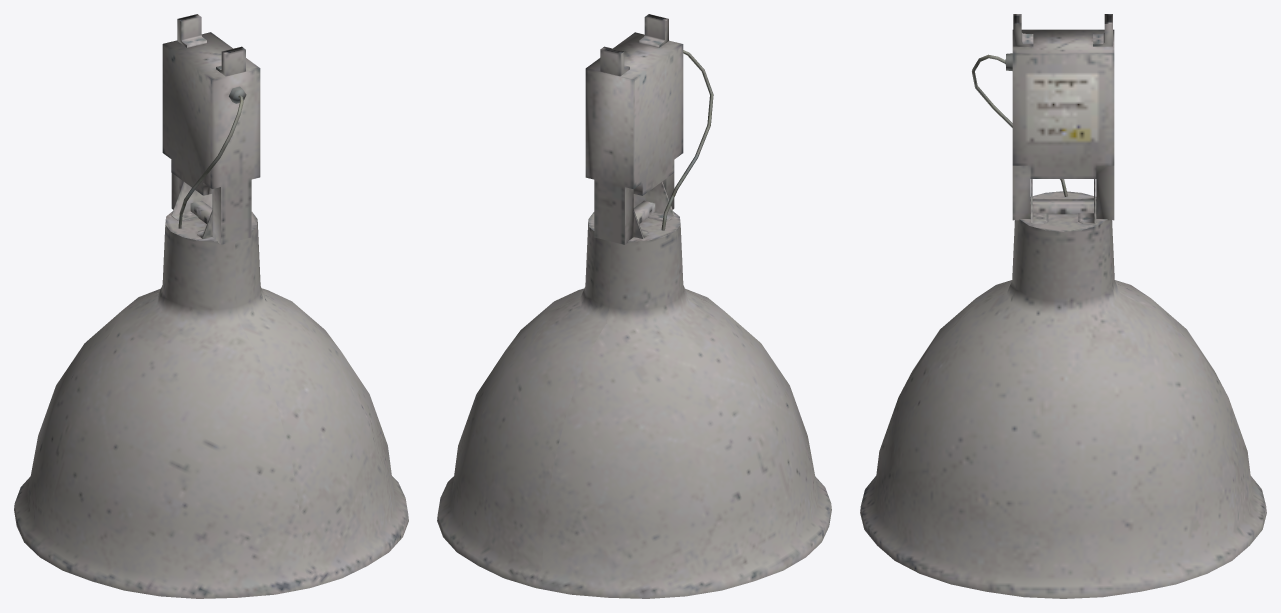
File: sm35_016_fluorescentlight01a.fbx
The picture shows the model from 3 angles, left to right: view 1: azimuth 30°, elevation 25°; view 2: azimuth 150°, elevation 25°; view 3: azimuth 270°, elevation 25°; orthographic projection. The views are drawn at different scales.
Visible parts, largest first — view 1: LOD_1_Group_0_Sub_1__sm35_017_MidSizeLight01A_A_Mat; view 2: LOD_1_Group_0_Sub_1__sm35_017_MidSizeLight01A_A_Mat; view 3: LOD_1_Group_0_Sub_1__sm35_017_MidSizeLight01A_A_Mat.
Boxes of the visible parts, x1,y1,x2,y2 form: LOD_1_Group_0_Sub_1__sm35_017_MidSizeLight01A_A_Mat: (14,14,408,598); LOD_1_Group_0_Sub_1__sm35_017_MidSizeLight01A_A_Mat: (437,14,831,598); LOD_1_Group_0_Sub_1__sm35_017_MidSizeLight01A_A_Mat: (860,14,1266,598).
Size of the model in its own units: 0.5866 by 0.786 by 0.5866.
